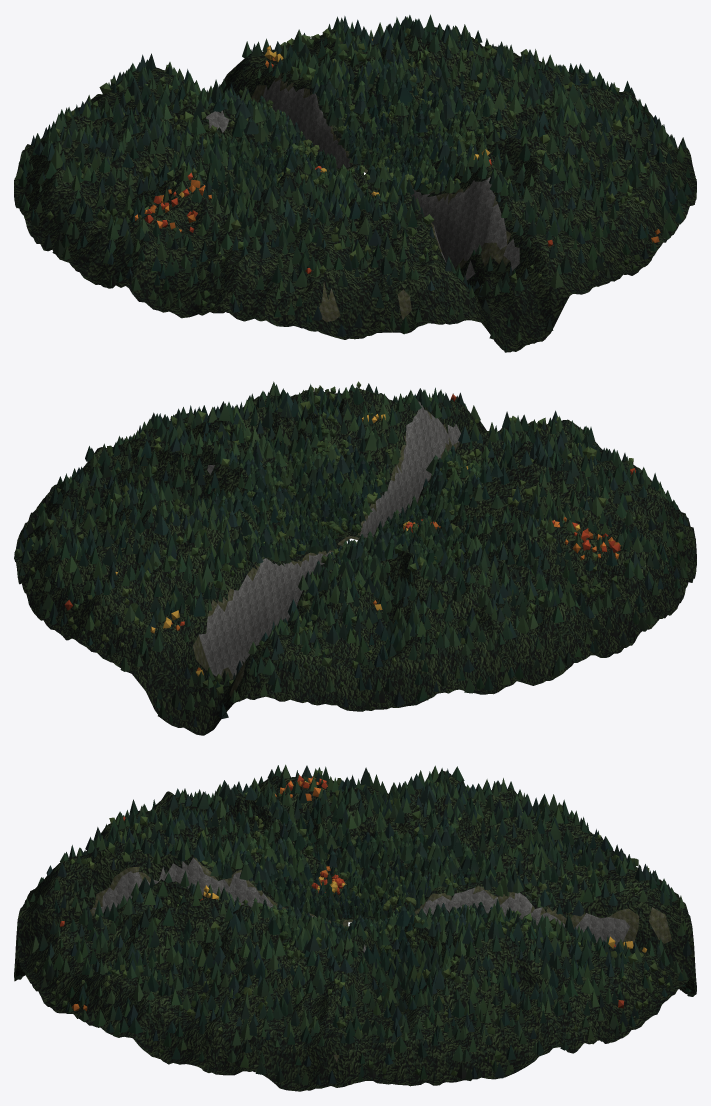
File: backdrop_near_rect_s22x18_summer.glb
The picture shows the model from 3 angles, top to bottom: view 1: azimuth 30°, elevation 25°; view 2: azimuth 150°, elevation 25°; view 3: azimuth 270°, elevation 25°; orthographic projection.
Visible parts, largest first — view 1: near_land_S, trees_land_W_0, near_land_W, trees_land_S_0, trees_land_E_0, trees_land_N_0, near_land_E, near_land_N; view 2: near_land_N, trees_land_N_0, near_land_W, trees_land_W_0, trees_land_E_0, trees_land_S_0, near_land_S, near_land_E; view 3: near_land_E, trees_land_E_0, trees_land_W_0, trees_land_N_0, near_land_S, trees_land_S_0, near_land_N, near_land_W.
Boxes of the visible parts, left/top/right/bottom form: near_land_S: left=266, top=125, right=685, bottom=352; trees_land_W_0: left=14, top=97, right=334, bottom=312; near_land_W: left=14, top=103, right=320, bottom=321; trees_land_S_0: left=271, top=119, right=682, bottom=352; trees_land_E_0: left=361, top=18, right=692, bottom=219; trees_land_N_0: left=31, top=14, right=434, bottom=168; near_land_E: left=361, top=27, right=696, bottom=218; near_land_N: left=25, top=27, right=435, bottom=171; near_land_N: left=26, top=509, right=446, bottom=735; trees_land_N_0: left=38, top=498, right=438, bottom=727; near_land_W: left=393, top=462, right=696, bottom=694; trees_land_W_0: left=384, top=450, right=693, bottom=693; trees_land_E_0: left=14, top=381, right=349, bottom=589; trees_land_S_0: left=274, top=381, right=678, bottom=535; near_land_S: left=276, top=388, right=680, bottom=538; near_land_E: left=14, top=394, right=353, bottom=593; near_land_E: left=115, top=907, right=597, bottom=1091; trees_land_E_0: left=113, top=899, right=594, bottom=1085; trees_land_W_0: left=142, top=764, right=569, bottom=919; trees_land_N_0: left=373, top=807, right=694, bottom=1036; near_land_S: left=14, top=811, right=344, bottom=1036; trees_land_S_0: left=15, top=799, right=340, bottom=1033; near_land_N: left=371, top=814, right=696, bottom=1043; near_land_W: left=138, top=771, right=594, bottom=920.
Size of the model in its own units: 577 by 177 by 576.
Materials: 4 (3 with a texture image).
